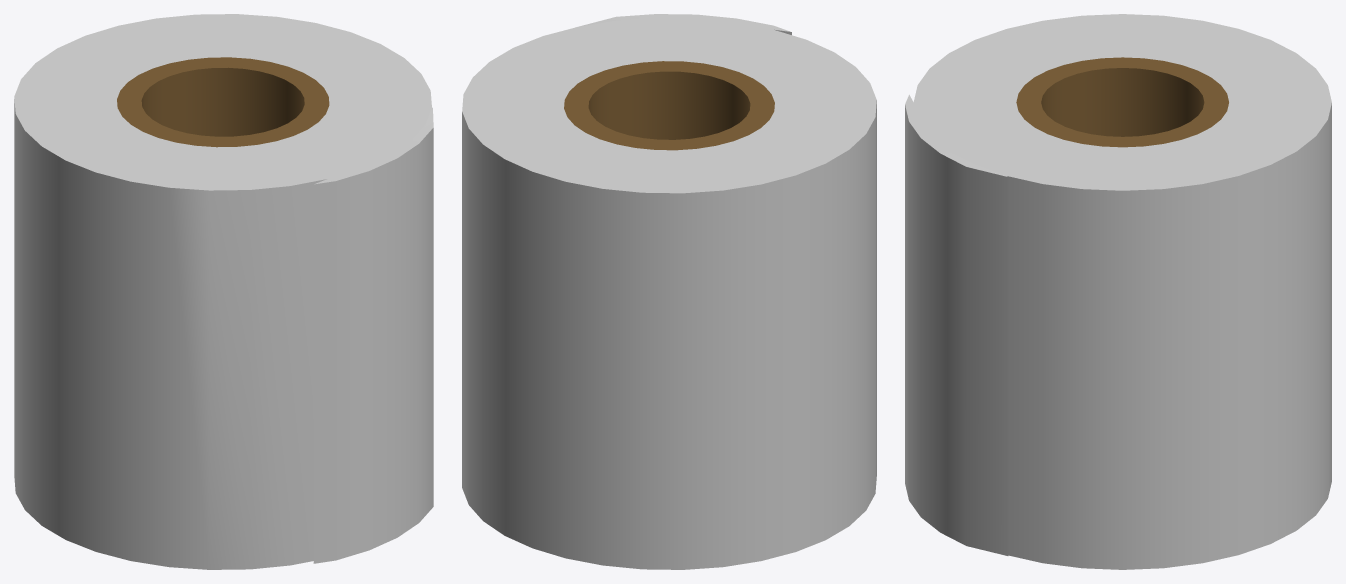
The model's file is toiler_paper_roll.fbx.
3 renders of one model, left to right at view 1: azimuth 30°, elevation 25°; view 2: azimuth 150°, elevation 25°; view 3: azimuth 270°, elevation 25°, orthographic.
Visible parts, largest first — view 1: ToiletPaperRoll; view 2: ToiletPaperRoll; view 3: ToiletPaperRoll.
Part boxes in pixels (x1,y1,x2,y2): ToiletPaperRoll: (14,14,433,569); ToiletPaperRoll: (462,14,876,569); ToiletPaperRoll: (905,14,1331,569).
Size of the model in its own units: 0.6 by 0.6006 by 0.6123.
